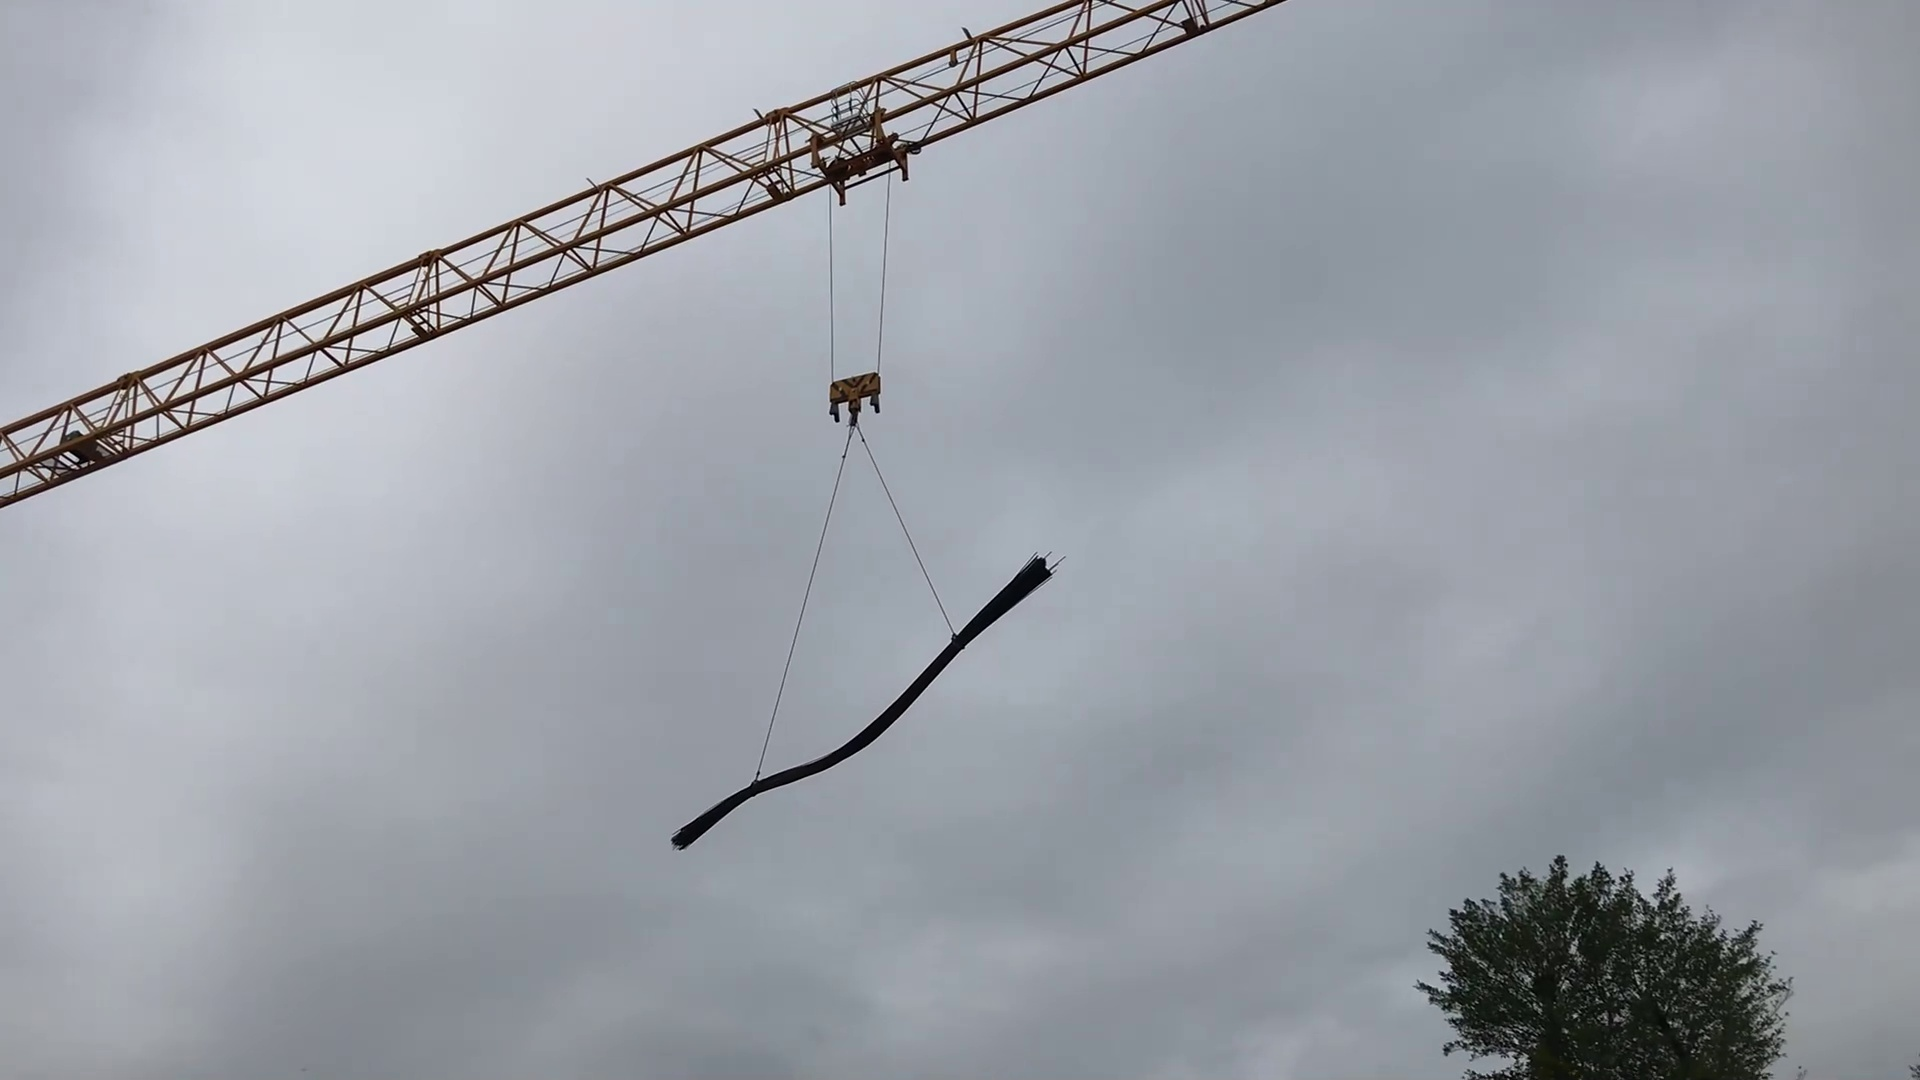hook: (822, 364, 889, 446)
